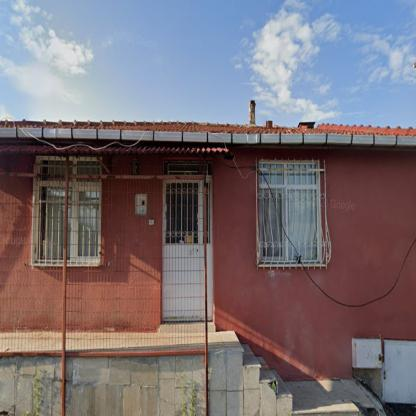door: (164, 180, 201, 319)
window: (37, 160, 99, 259), (259, 162, 318, 260)
